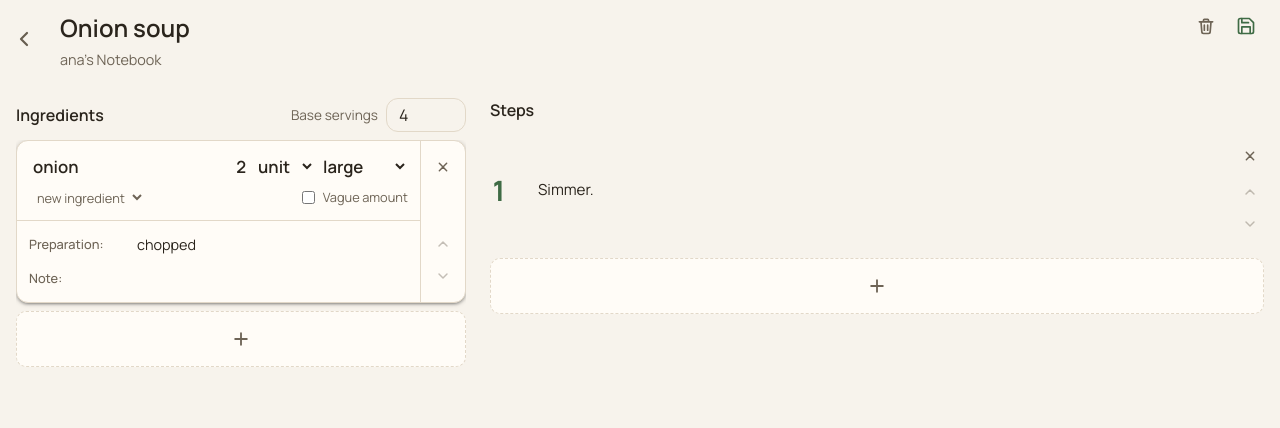
Test: RecipeDraftEditor › Save (spec 020) › names the missing parts when the api reports them
The width and height of the screenshot is (1280, 428).
Click the button named "Save recipe" at (1246, 26), box [1228, 8, 1264, 44]
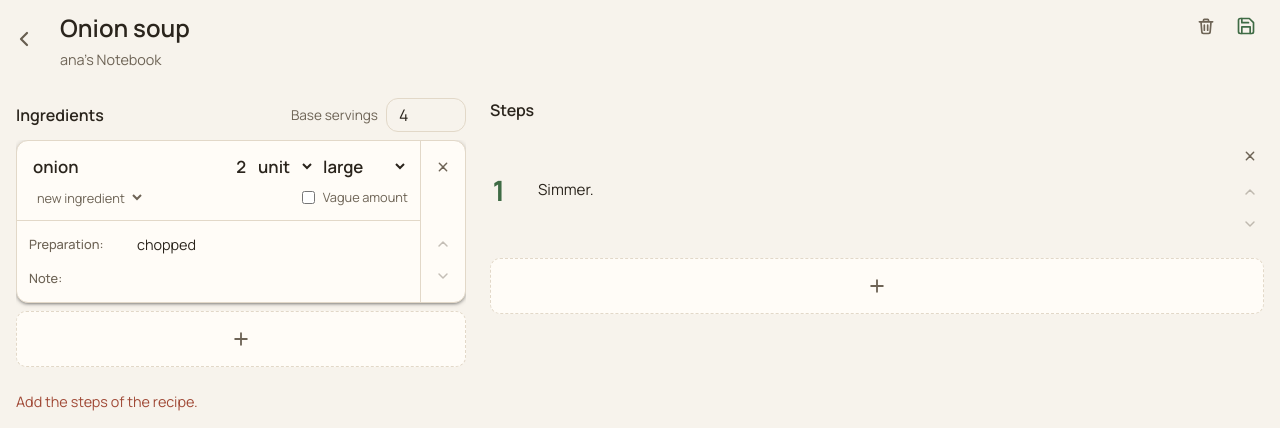
Expected: the text "Add the steps of the recipe." is shown, [16, 392, 198, 411]
